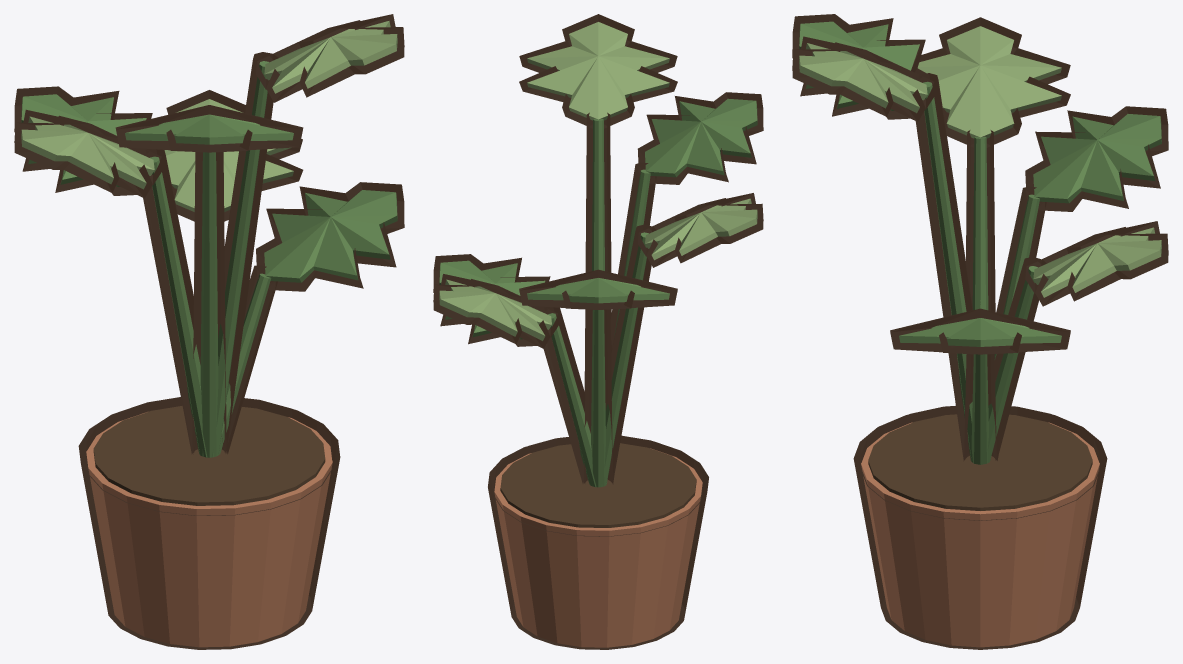
The model's file is monstera-plant.glb.
The picture shows the model from 3 angles, left to right: view 1: azimuth 30°, elevation 25°; view 2: azimuth 150°, elevation 25°; view 3: azimuth 270°, elevation 25°; orthographic projection. The views are drawn at different scales.
Parts seen in each view (by area): view 1: monstera-plant, monstera-plant-outline; view 2: monstera-plant, monstera-plant-outline; view 3: monstera-plant, monstera-plant-outline.
Part boxes in pixels (bbox=[...]): monstera-plant: bbox=[21, 21, 397, 647]; monstera-plant-outline: bbox=[14, 14, 404, 649]; monstera-plant: bbox=[439, 22, 757, 647]; monstera-plant-outline: bbox=[433, 14, 763, 649]; monstera-plant: bbox=[799, 21, 1161, 647]; monstera-plant-outline: bbox=[792, 14, 1168, 649].
Size of the model in its own units: 0.835 by 1.26 by 0.7241.
